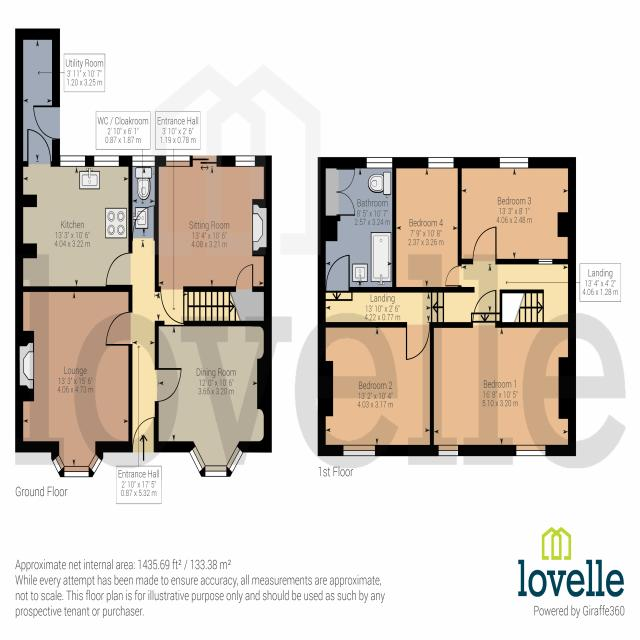DOOR: (471, 288, 498, 328), (405, 321, 431, 362), (105, 310, 133, 347), (159, 286, 185, 325), (26, 128, 52, 167), (154, 367, 182, 402), (105, 252, 133, 287), (472, 225, 497, 264), (325, 254, 350, 293), (131, 416, 156, 453), (445, 265, 462, 287)
ROOM: (430, 288, 576, 457), (15, 286, 133, 478), (153, 155, 272, 325), (15, 128, 133, 292), (154, 320, 272, 478), (317, 322, 435, 457), (458, 157, 576, 265), (392, 157, 462, 293)
WINDOW: (189, 445, 244, 477), (52, 452, 103, 478), (343, 444, 376, 457), (516, 444, 546, 457), (499, 157, 529, 169), (366, 157, 393, 169), (428, 157, 454, 169), (165, 155, 190, 167), (60, 155, 85, 167), (94, 155, 119, 167), (438, 444, 459, 457), (235, 155, 256, 167), (538, 259, 553, 265)
